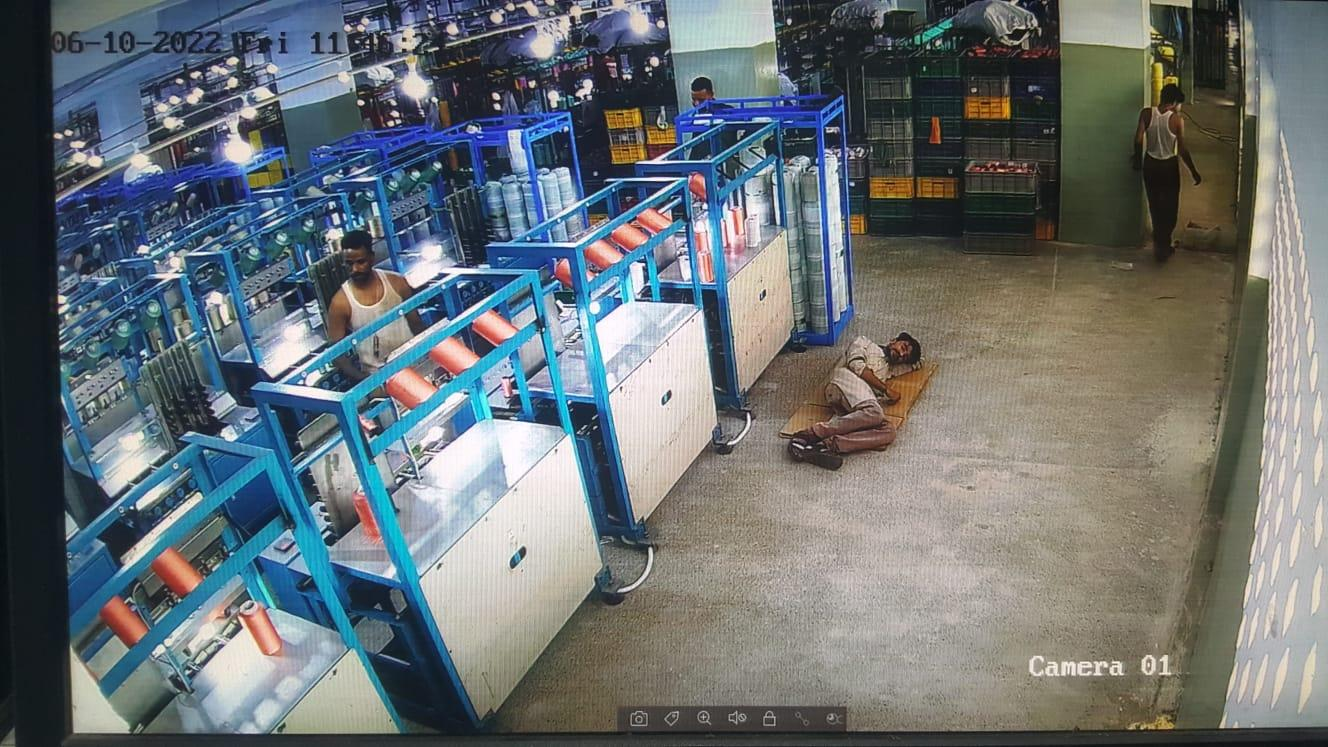person: (784, 332, 925, 468), (1136, 80, 1207, 264), (322, 230, 407, 342), (690, 74, 721, 104)
